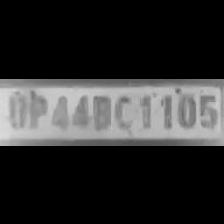0: (174, 90, 198, 128)
1: (134, 91, 156, 129), (152, 91, 174, 129)
4: (48, 91, 72, 129), (68, 91, 90, 129)
5: (196, 89, 220, 129)
C: (112, 91, 134, 129)
P: (25, 91, 47, 129)
U: (6, 91, 28, 129)
